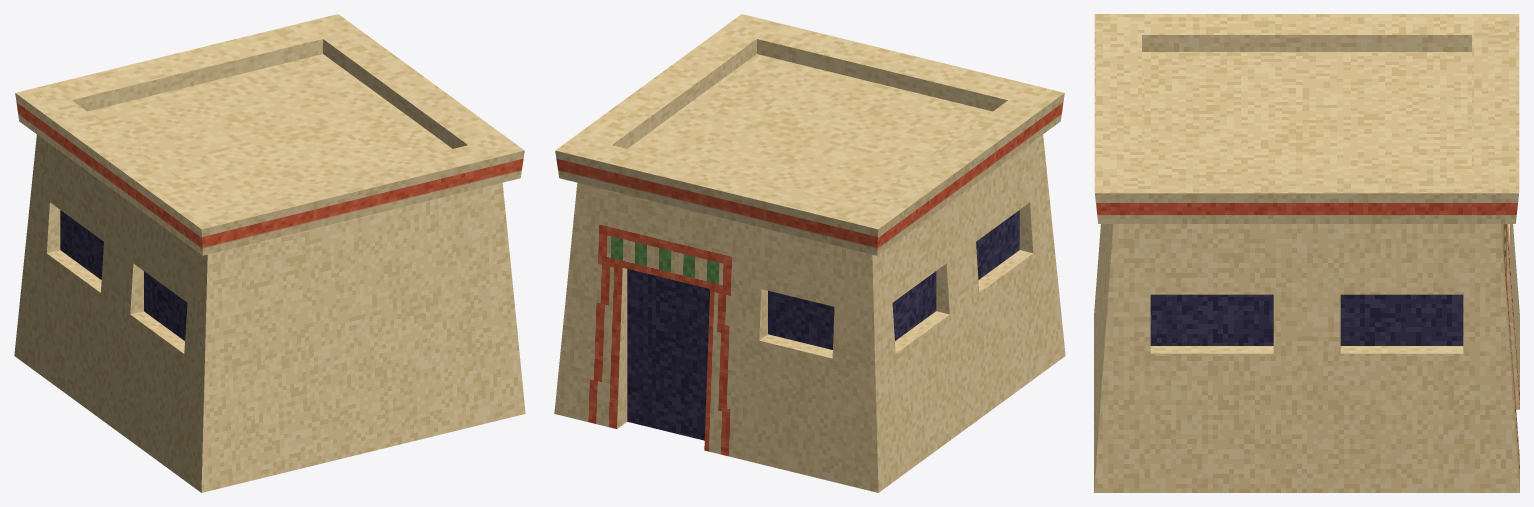
File: CasaEgiptoModeloAVer2.fbx
3 views of the same model, side by side, from view 1: azimuth 30°, elevation 25°; view 2: azimuth 150°, elevation 25°; view 3: azimuth 270°, elevation 25° (orthographic). The views are drawn at different scales.
Parts seen in each view (by area): view 1: CasaModeloAVer2; view 2: CasaModeloAVer2; view 3: CasaModeloAVer2.
Part boxes in pixels (<box>): CasaModeloAVer2: <box>14,14,525,492</box>; CasaModeloAVer2: <box>554,14,1065,492</box>; CasaModeloAVer2: <box>1094,14,1519,492</box>.
Bounding box in the file's own units: 2.59 × 2.01 × 2.59.
